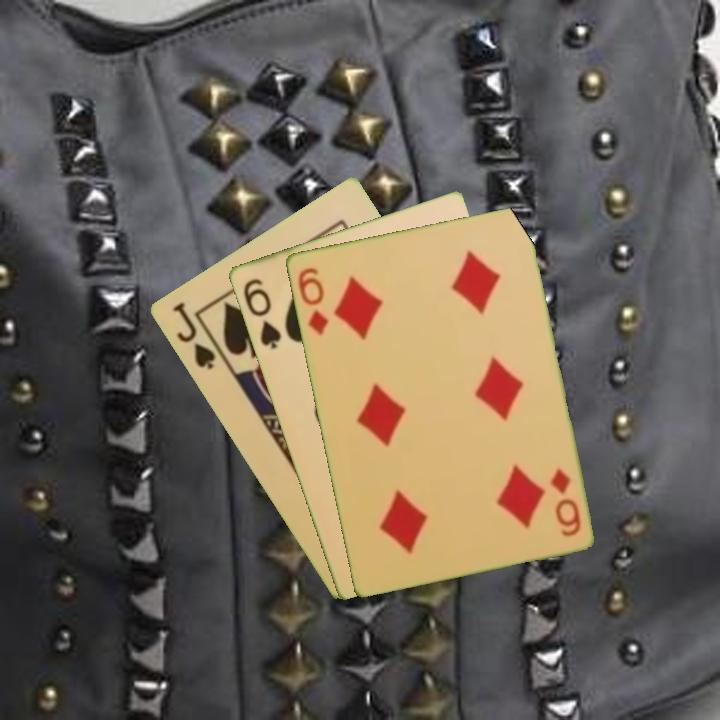6d: (546, 464, 584, 539), (294, 263, 331, 338)
6s: (239, 274, 284, 352)
Js: (168, 298, 218, 373)
